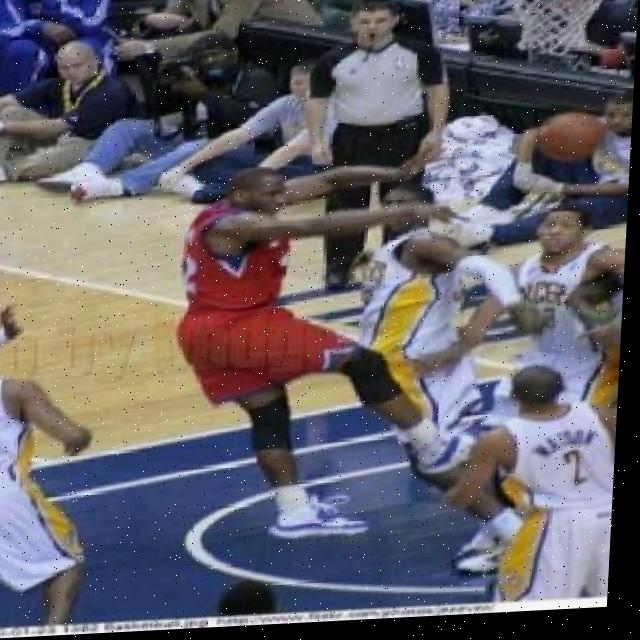basketball: (528, 106, 611, 172)
hoop: (482, 0, 625, 61)
